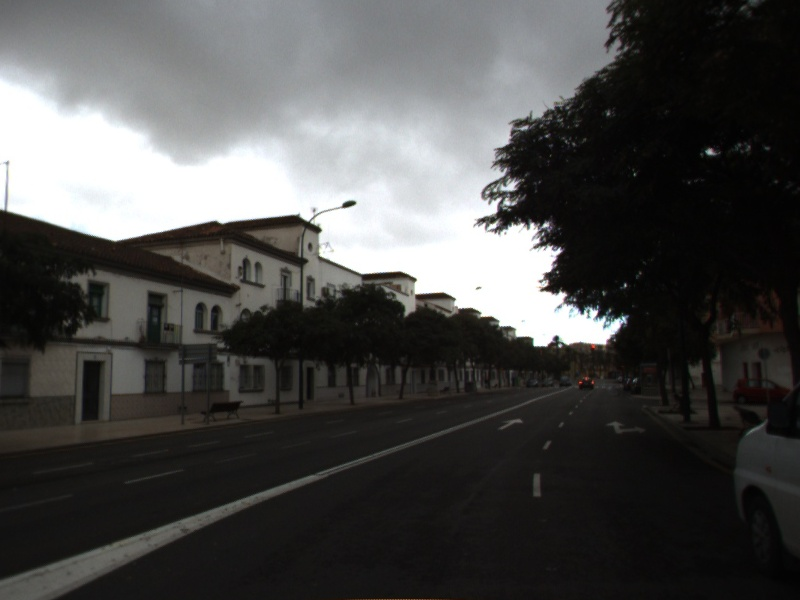STRAIGHT: (497, 417, 525, 431)
STRAIGHT_RIGHT: (604, 419, 648, 435)
